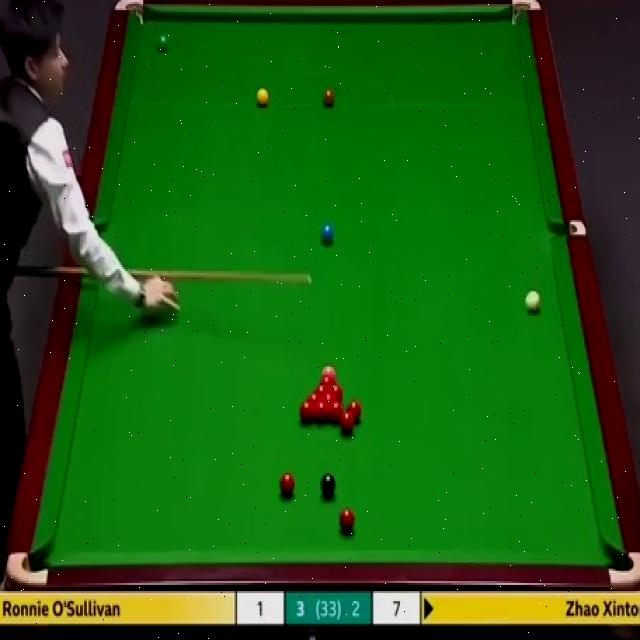black-ball: (321, 473, 336, 499)
blue-ball: (321, 224, 334, 244)
brown-ball: (322, 89, 335, 108)
green-ball: (157, 35, 169, 53)
pink-ball: (321, 363, 337, 375)
red-ball: (278, 472, 296, 497), (340, 507, 356, 534), (298, 400, 314, 423), (329, 401, 344, 424), (340, 412, 354, 435), (347, 400, 361, 423), (314, 400, 328, 421), (330, 383, 343, 399), (317, 372, 335, 383), (313, 383, 329, 393), (306, 392, 321, 402), (321, 392, 337, 401)
white-ball: (524, 288, 540, 316)
yellow-ball: (256, 86, 268, 105)
